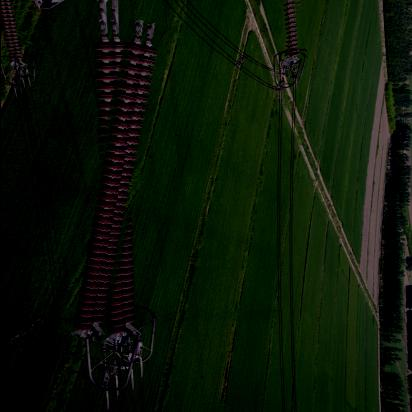insulator: (75, 19, 157, 343), (283, 1, 307, 61)
